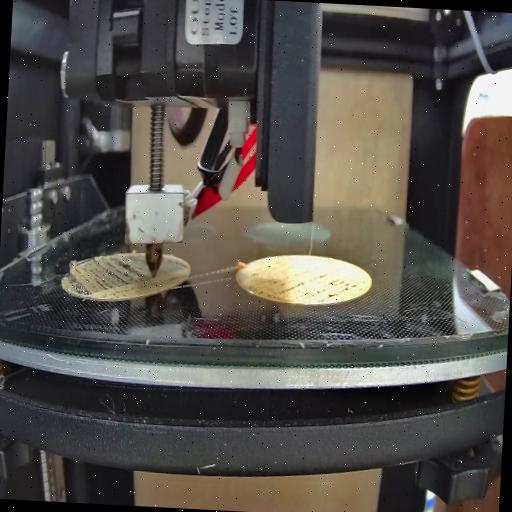under_extrusion: (64, 251, 150, 300), (248, 268, 307, 304), (309, 272, 367, 302)
